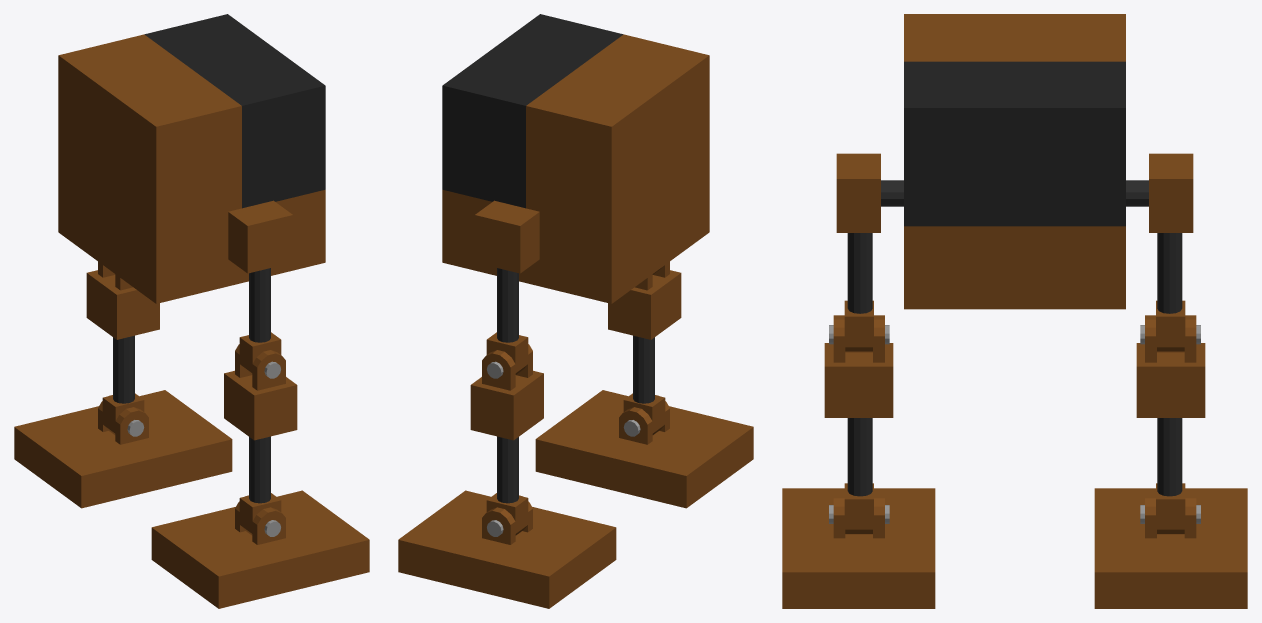
File: uploads_files_809032_cbmchhh.fbx
3 views of the same model, side by side, from view 1: azimuth 30°, elevation 25°; view 2: azimuth 150°, elevation 25°; view 3: azimuth 270°, elevation 25° (orthographic). The views are drawn at different scales.
Visible parts, largest first — view 1: Cube.001, Cube.023, Cube.018, Cube.017, Cylinder.010, Cube.022, Cylinder.009, Cube.021, Cube.019, Cube.020; view 2: Cube.001, Cube.023, Cube.018, Cube.017, Cylinder.010, Cube.022, Cylinder.009, Cube.021, Cube.019, Cube.020; view 3: Cube.001, Cube.023, Cube.018, Cube.017, Cylinder.009, Cylinder.010, Cube.020, Cube.021, Cube.019, Cube.022, Cylinder.008.
Boxes of the visible parts, x1=… form: Cube.001: x1=58, y1=14, x2=325, y2=303; Cube.023: x1=14, y1=390, x2=369, y2=608; Cube.018: x1=86, y1=270, x2=297, y2=440; Cube.017: x1=228, y1=200, x2=292, y2=273; Cylinder.010: x1=113, y1=335, x2=270, y2=503; Cube.022: x1=98, y1=395, x2=285, y2=544; Cylinder.009: x1=249, y1=268, x2=270, y2=342; Cube.021: x1=102, y1=393, x2=281, y2=535; Cube.019: x1=98, y1=261, x2=285, y2=390; Cube.020: x1=106, y1=267, x2=281, y2=374; Cube.001: x1=442, y1=14, x2=709, y2=303; Cube.023: x1=398, y1=390, x2=753, y2=608; Cube.018: x1=470, y1=270, x2=681, y2=440; Cube.017: x1=475, y1=200, x2=539, y2=273; Cylinder.010: x1=497, y1=335, x2=654, y2=503; Cube.022: x1=482, y1=395, x2=669, y2=544; Cylinder.009: x1=497, y1=268, x2=518, y2=342; Cube.021: x1=486, y1=393, x2=665, y2=535; Cube.019: x1=482, y1=261, x2=669, y2=390; Cube.020: x1=486, y1=267, x2=661, y2=374; Cube.001: x1=904, y1=14, x2=1125, y2=309; Cube.023: x1=782, y1=488, x2=1247, y2=608; Cube.018: x1=824, y1=343, x2=1205, y2=417; Cube.017: x1=836, y1=153, x2=1193, y2=232; Cylinder.009: x1=847, y1=233, x2=1182, y2=313; Cylinder.010: x1=847, y1=418, x2=1182, y2=496; Cube.020: x1=844, y1=300, x2=1185, y2=352; Cube.021: x1=844, y1=483, x2=1185, y2=534; Cube.019: x1=833, y1=315, x2=1196, y2=362; Cube.022: x1=833, y1=494, x2=1196, y2=538; Cylinder.008: x1=881, y1=180, x2=1148, y2=206.
Bounding box in the file's own units: 324 × 814 × 679.
